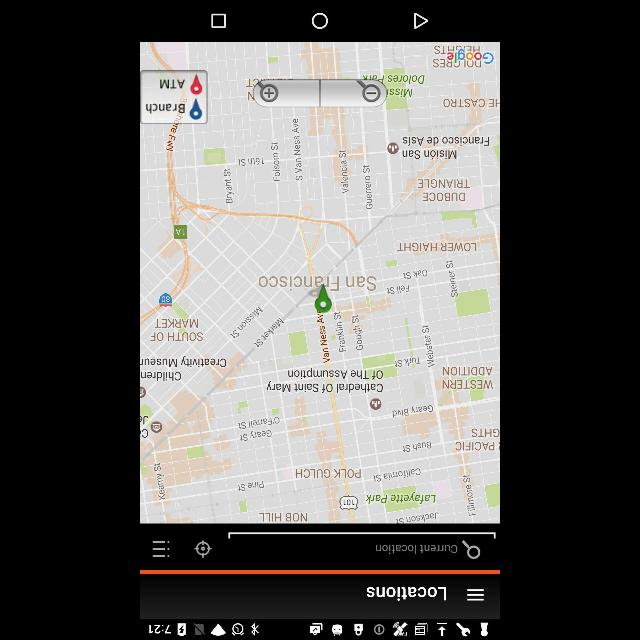icon: (461, 540, 481, 558), (152, 538, 170, 558), (412, 12, 428, 30), (195, 540, 211, 556), (312, 14, 328, 28), (468, 587, 484, 601), (212, 14, 226, 28)
input: (228, 530, 494, 562)
map: (140, 41, 500, 525)
panel: (140, 527, 500, 569), (140, 1, 500, 42)
text: (366, 586, 446, 600), (375, 544, 457, 554)
toolbar: (140, 575, 500, 621)
uppertaskbar: (140, 620, 500, 640)
